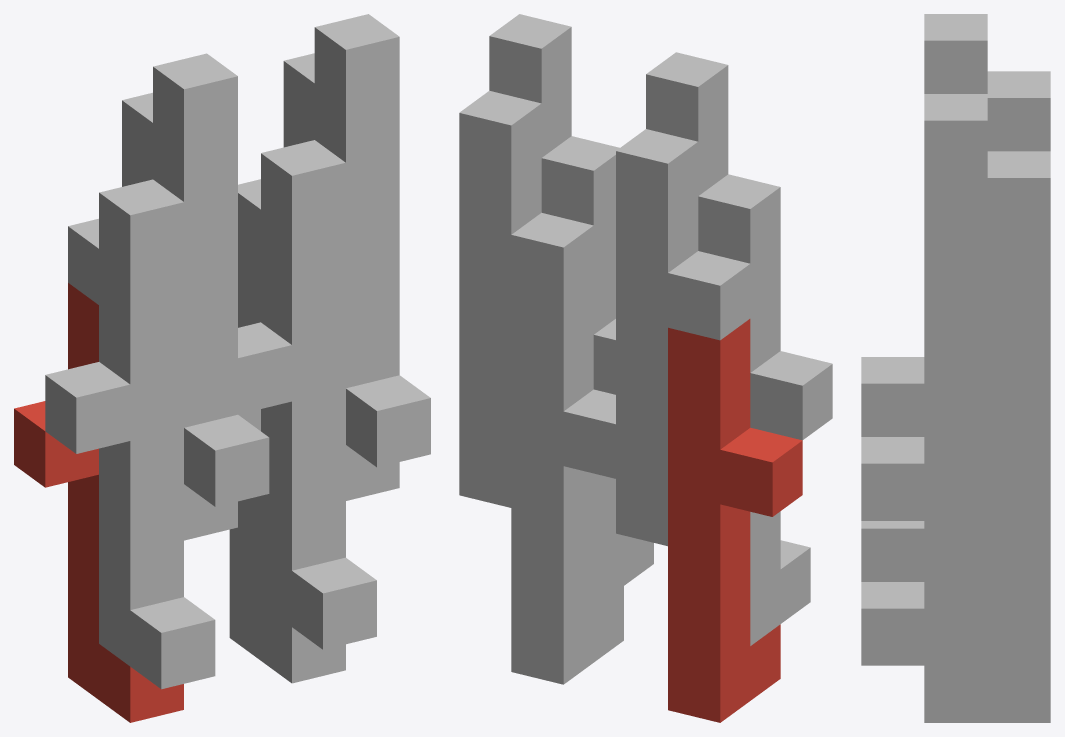
The model's file is tiling.obj.
The picture shows the model from 3 angles, left to right: view 1: azimuth 30°, elevation 25°; view 2: azimuth 150°, elevation 25°; view 3: azimuth 270°, elevation 25°; orthographic projection. The views are drawn at different scales.
Visible parts, largest first — view 1: copy_1_domain_2, copy_1_domain_6, copy_1_domain_8, copy_1_domain_4, copy_1_domain_1, copy_1_domain_5, copy_1_domain_3, copy_1_domain_7; view 2: copy_1_domain_1, copy_1_domain_5, copy_1_domain_7, copy_1_domain_3, copy_1_domain_2, copy_1_domain_4, copy_1_domain_8, copy_1_domain_6; view 3: copy_1_domain_8, copy_1_domain_7, copy_1_domain_5, copy_1_domain_6, copy_1_domain_4, copy_1_domain_3, copy_1_domain_2.
Part boxes in pixels (<box>): copy_1_domain_2: <box>45,249,215,689</box>; copy_1_domain_6: <box>238,210,376,649</box>; copy_1_domain_8: <box>261,14,430,467</box>; copy_1_domain_4: <box>99,53,269,506</box>; copy_1_domain_1: <box>14,283,183,722</box>; copy_1_domain_5: <box>229,249,345,683</box>; copy_1_domain_3: <box>68,92,237,540</box>; copy_1_domain_7: <box>238,53,399,500</box>; copy_1_domain_1: <box>668,319,802,722</box>; copy_1_domain_5: <box>511,280,623,684</box>; copy_1_domain_7: <box>459,91,593,507</box>; copy_1_domain_3: <box>616,129,750,546</box>; copy_1_domain_2: <box>750,242,832,645</box>; copy_1_domain_4: <box>646,52,780,263</box>; copy_1_domain_8: <box>489,14,619,225</box>; copy_1_domain_6: <box>593,209,653,607</box>; copy_1_domain_8: <box>861,94,987,520</box>; copy_1_domain_7: <box>924,151,1050,577</box>; copy_1_domain_5: <box>924,578,1050,722</box>; copy_1_domain_6: <box>861,578,987,665</box>; copy_1_domain_4: <box>861,14,987,436</box>; copy_1_domain_3: <box>987,71,1050,151</box>; copy_1_domain_2: <box>861,521,924,581</box>.
Bounding box in the file's own units: 6 × 11 × 3.
